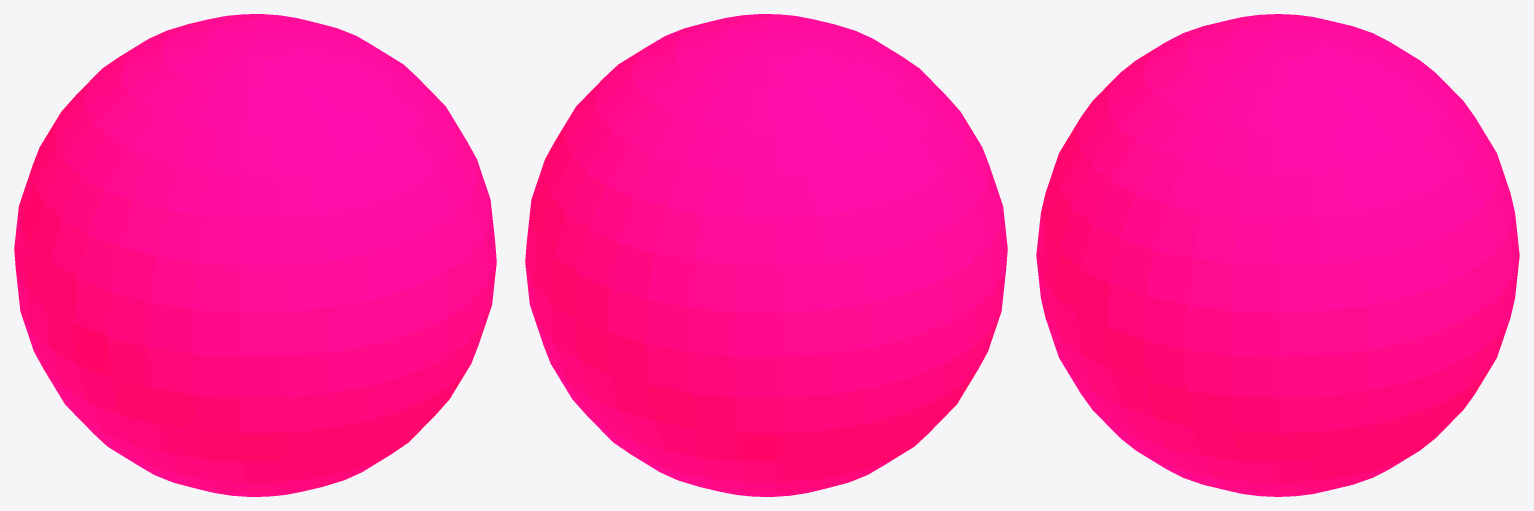
Rendered from embryo.fbx.
The picture shows the model from 3 angles, left to right: view 1: azimuth 30°, elevation 25°; view 2: azimuth 150°, elevation 25°; view 3: azimuth 270°, elevation 25°; orthographic projection.
Visible parts, largest first — view 1: Sphere.001; view 2: Sphere.001; view 3: Sphere.001.
Part boxes in pixels (x1,y1,x2,y2): Sphere.001: [14, 14, 496, 496]; Sphere.001: [525, 14, 1007, 496]; Sphere.001: [1036, 14, 1519, 496].
Size of the model in its own units: 660 by 660 by 660.
